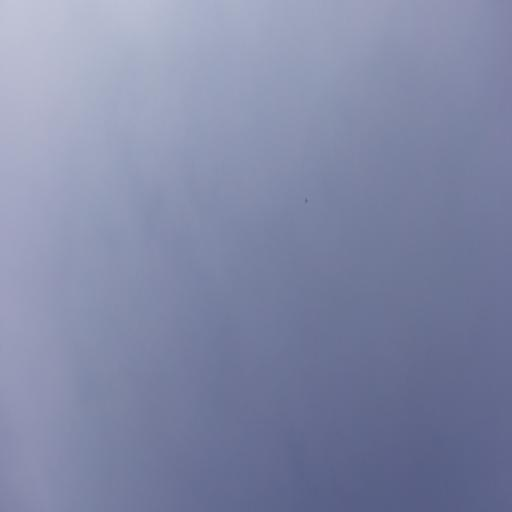drones: (304, 197, 308, 204)
